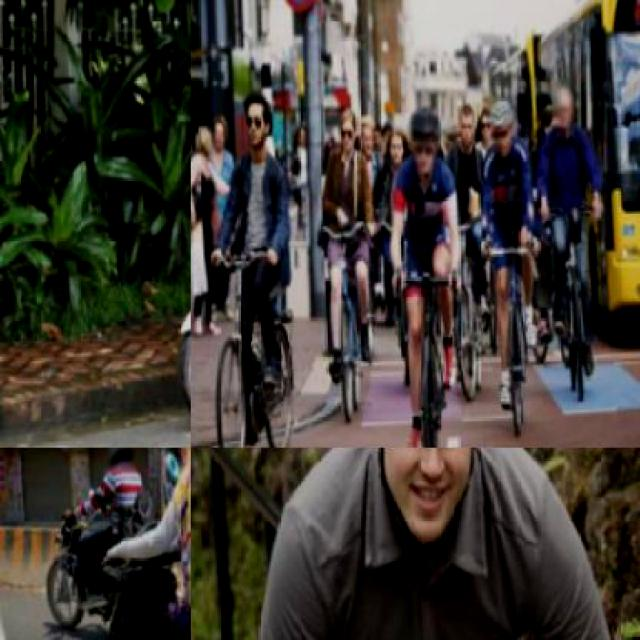With Helmet: (355, 448, 508, 560), (406, 100, 442, 182), (486, 99, 522, 164), (98, 448, 138, 477)
Without Helmet: (240, 84, 274, 158), (551, 81, 577, 134), (338, 107, 358, 162)
